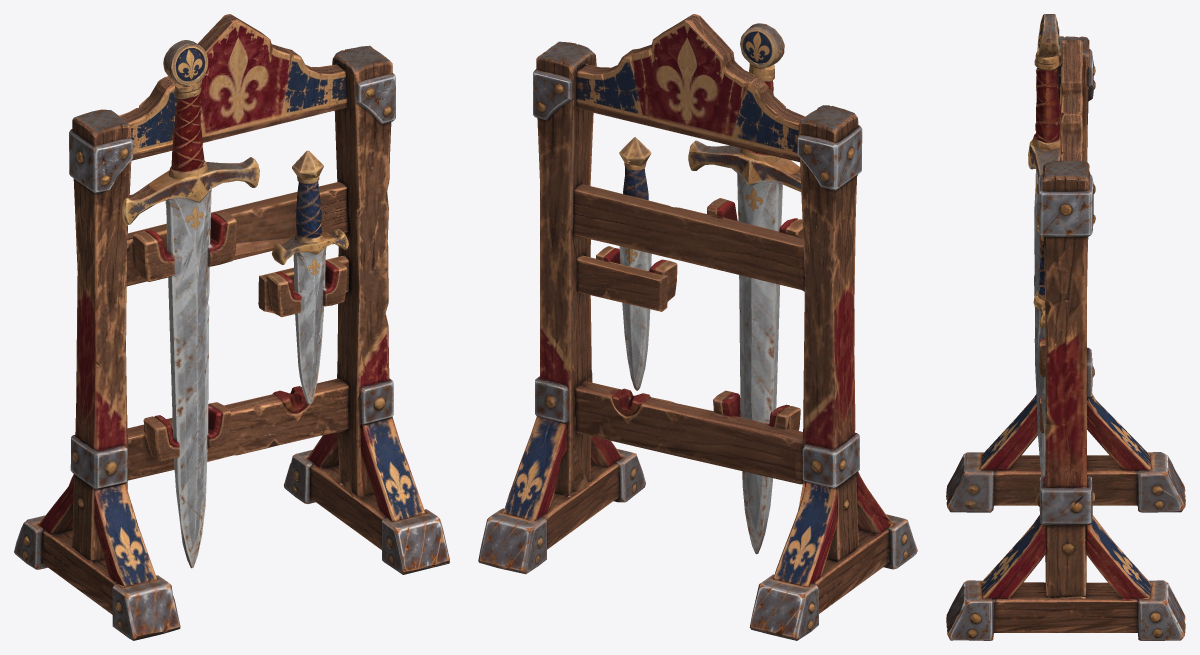
The model's file is weapon_rack.glb.
The picture shows the model from 3 angles, left to right: view 1: azimuth 30°, elevation 25°; view 2: azimuth 150°, elevation 25°; view 3: azimuth 270°, elevation 25°; orthographic projection. The views are drawn at different scales.
Parts seen in each view (by area): view 1: output_unwrapped; view 2: output_unwrapped; view 3: output_unwrapped.
Boxes of the visible parts, x1,y1,x2,y2 form: output_unwrapped: (14, 14, 449, 640); output_unwrapped: (478, 14, 917, 640); output_unwrapped: (946, 14, 1185, 640).
Bounding box in the file's own units: 1.19 × 1.9 × 0.7861.
1 material, 1 textured.
